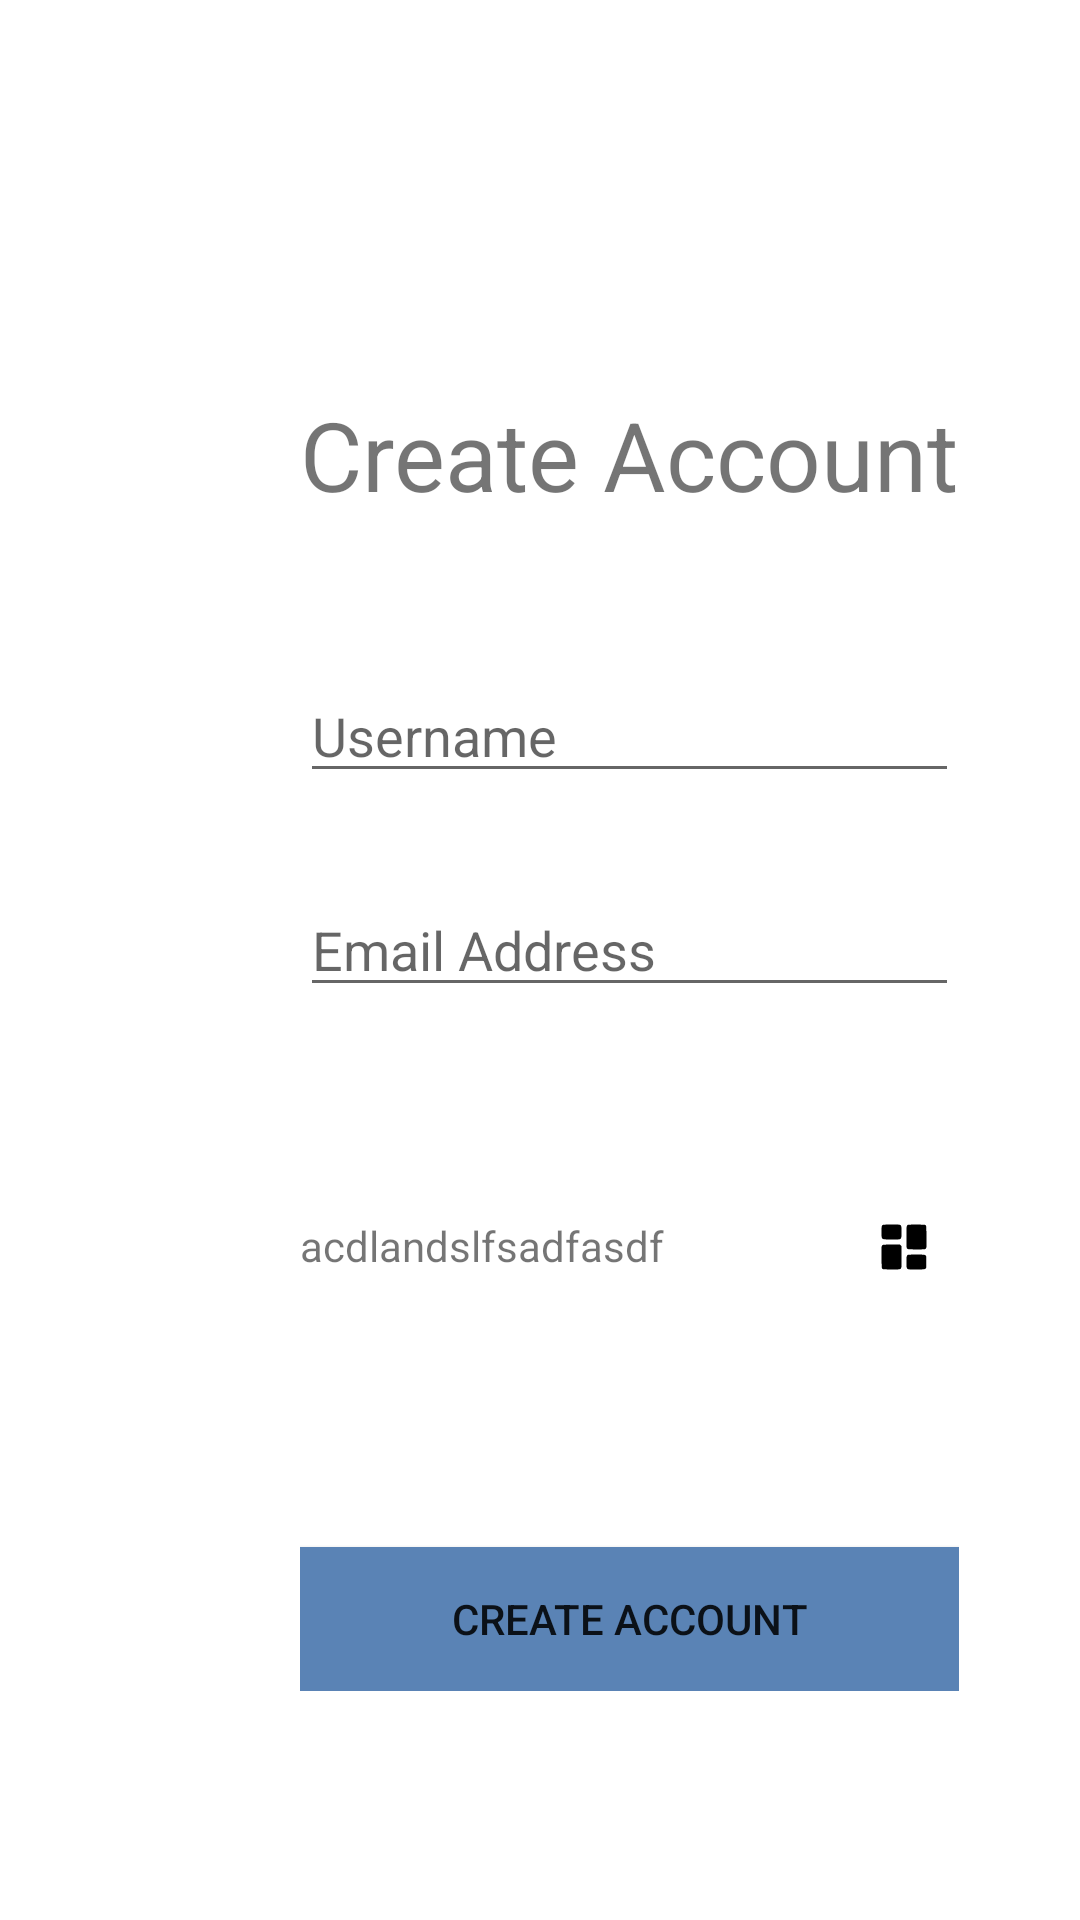

Icons on this 1080w x 1920h Android screen, each with the point to tap as (x=x, y=y):
dashboard: (x=904, y=1247)
